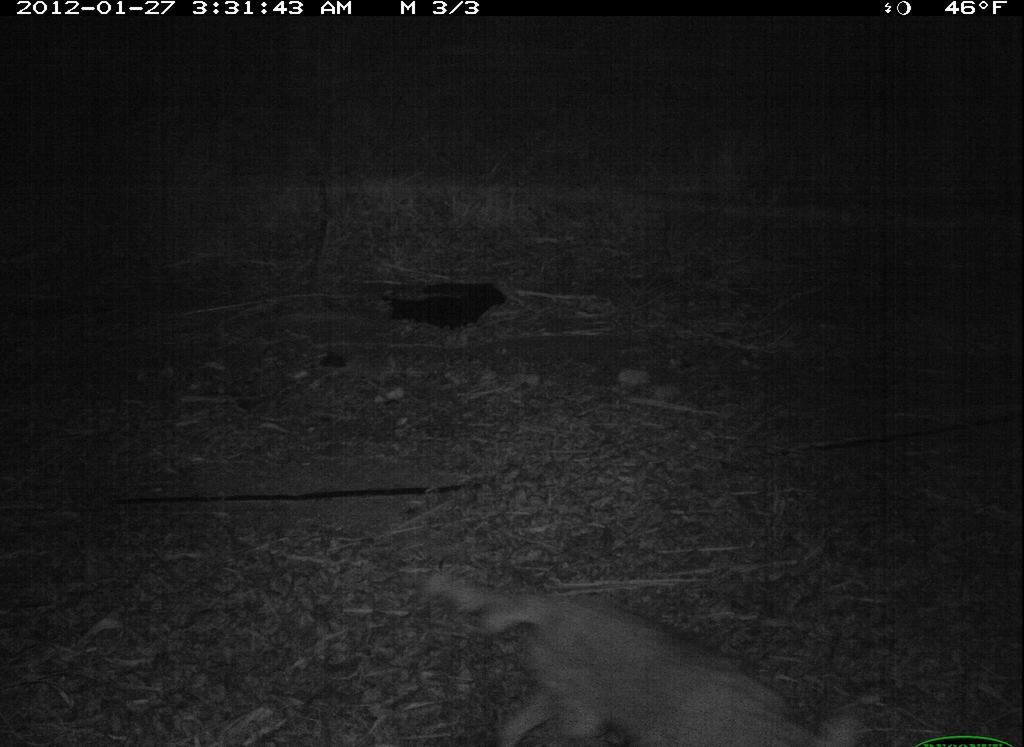coyote: (417, 550, 868, 747)
